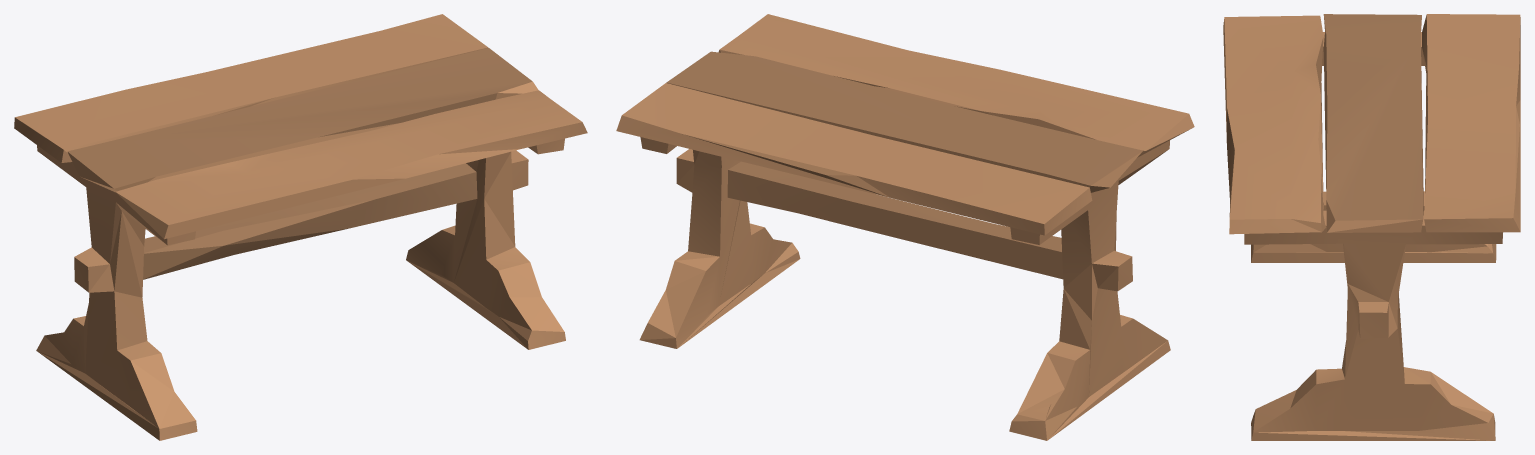
File: table2Shabby.fbx
The picture shows the model from 3 angles, left to right: view 1: azimuth 30°, elevation 25°; view 2: azimuth 150°, elevation 25°; view 3: azimuth 270°, elevation 25°; orthographic projection.
Parts seen in each view (by area): view 1: table2Shabby; view 2: table2Shabby; view 3: table2Shabby.
Part boxes in pixels (bbox=[...]): table2Shabby: bbox=[14, 14, 587, 440]; table2Shabby: bbox=[616, 14, 1194, 440]; table2Shabby: bbox=[1223, 14, 1520, 440].
Bounding box in the file's own units: 244 × 121 × 144.
Materials: 1 (1 with a texture image).
